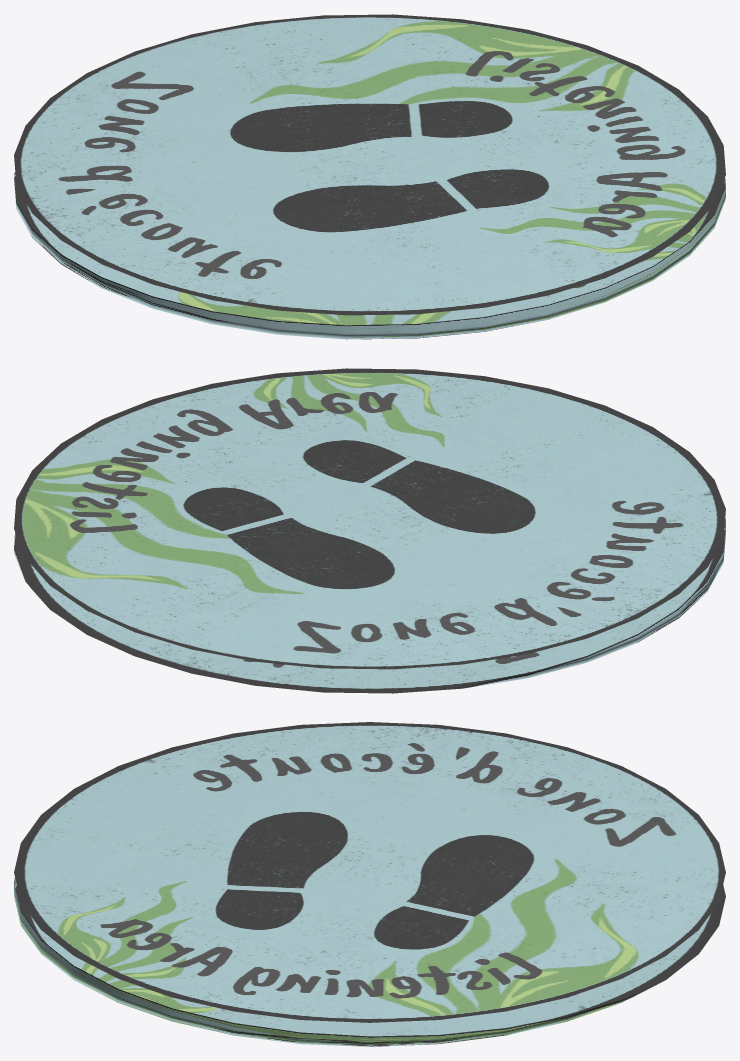
Rendered from gomette.fbx.
3 views of the same model, one above another, from view 1: azimuth 30°, elevation 25°; view 2: azimuth 150°, elevation 25°; view 3: azimuth 270°, elevation 25° (orthographic).
Visible parts, largest first — view 1: Cylinder; view 2: Cylinder; view 3: Cylinder.
Boxes of the visible parts, x1,y1,x2,y2 form: Cylinder: (14, 14, 725, 339); Cylinder: (14, 368, 725, 693); Cylinder: (14, 722, 725, 1046).
Bounding box in the file's own units: 1152 × 42.99 × 1152.
Materials: 1 (1 with a texture image).
